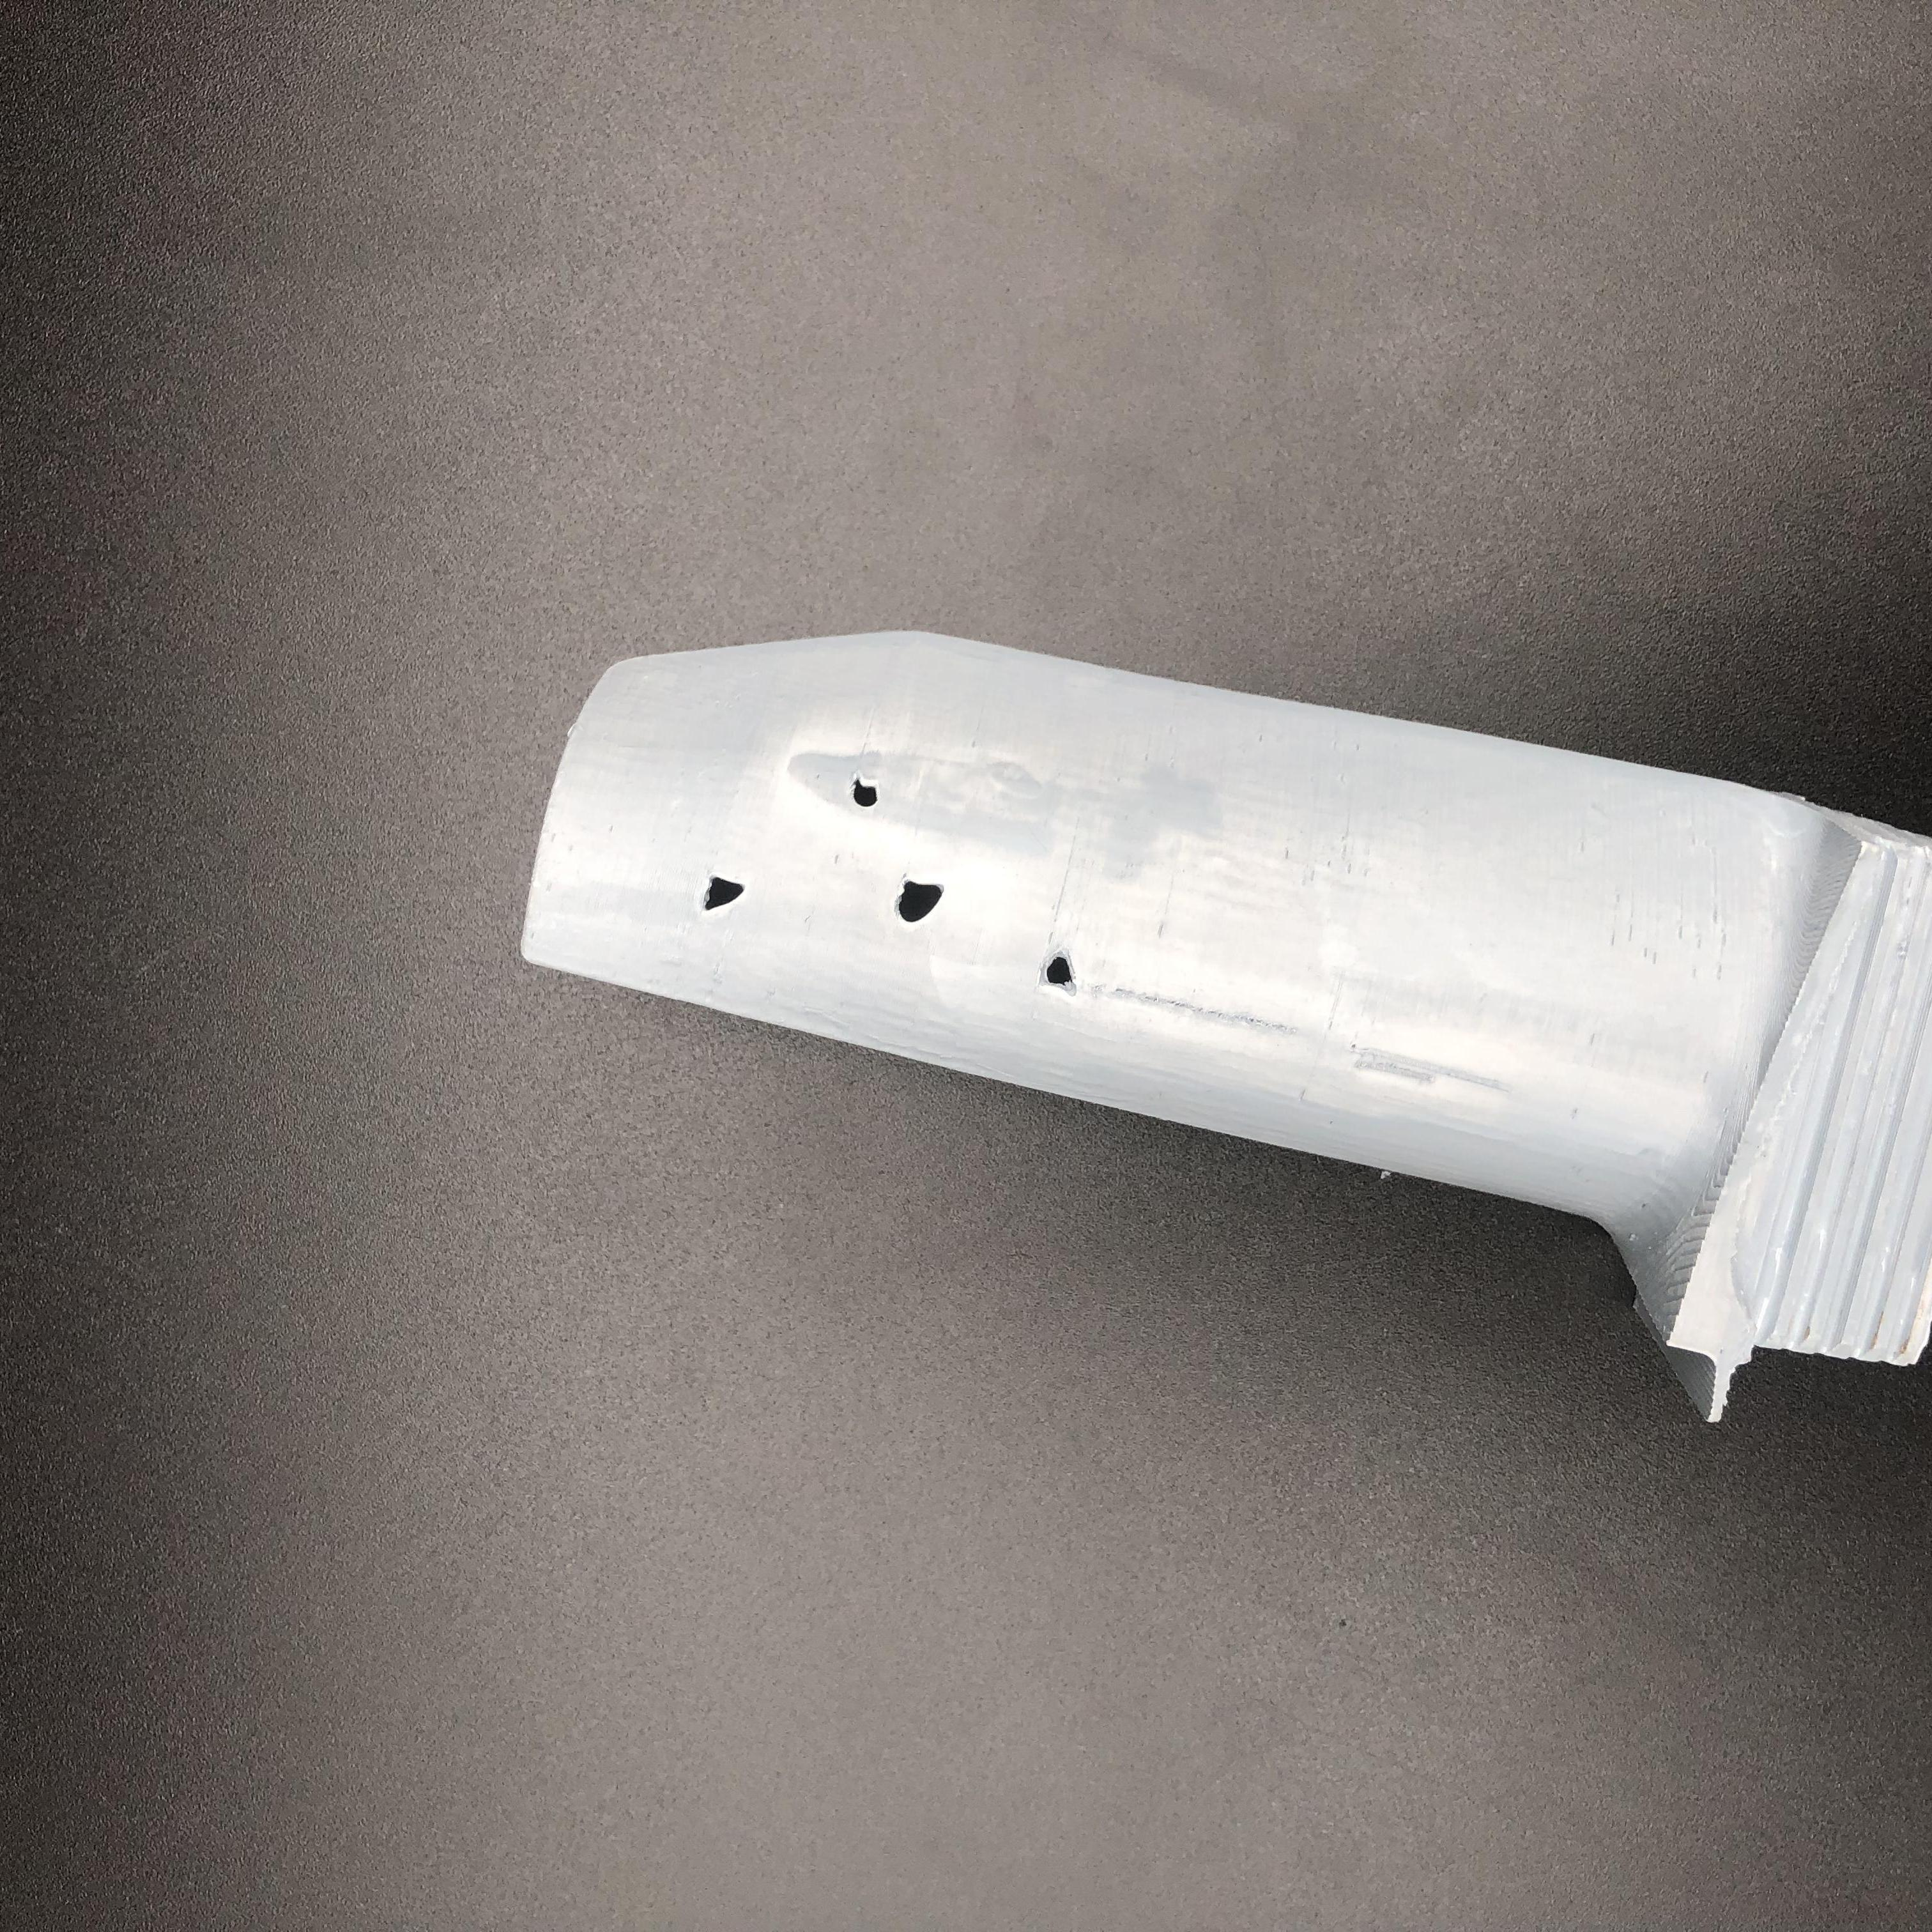breakdown: (704, 766, 1109, 996)
